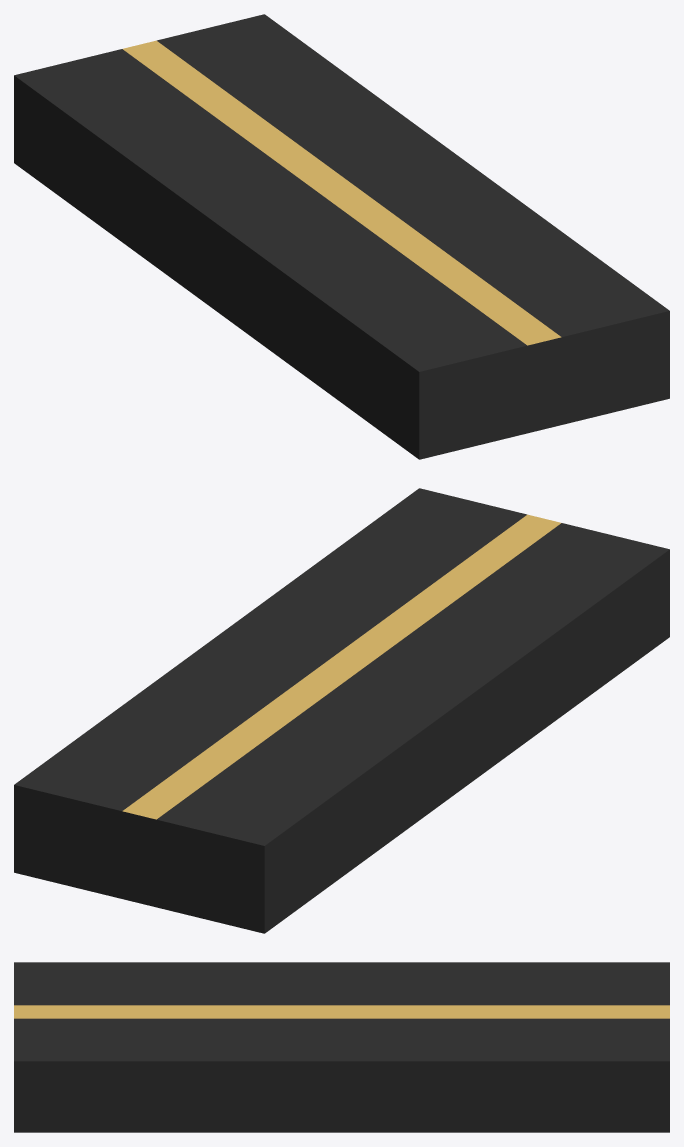
File: Road (1).fbx
3 renders of one model, top to bottom at view 1: azimuth 30°, elevation 25°; view 2: azimuth 150°, elevation 25°; view 3: azimuth 270°, elevation 25°, orthographic. The views are drawn at different scales.
Parts seen in each view (by area): view 1: Road; view 2: Road; view 3: Road.
Boxes of the visible parts, x1,y1,x2,y2 form: Road: [14, 14, 669, 459]; Road: [14, 488, 669, 933]; Road: [14, 962, 669, 1132].
Bounding box in the file's own units: 29.6 × 9.91 × 82.91.
